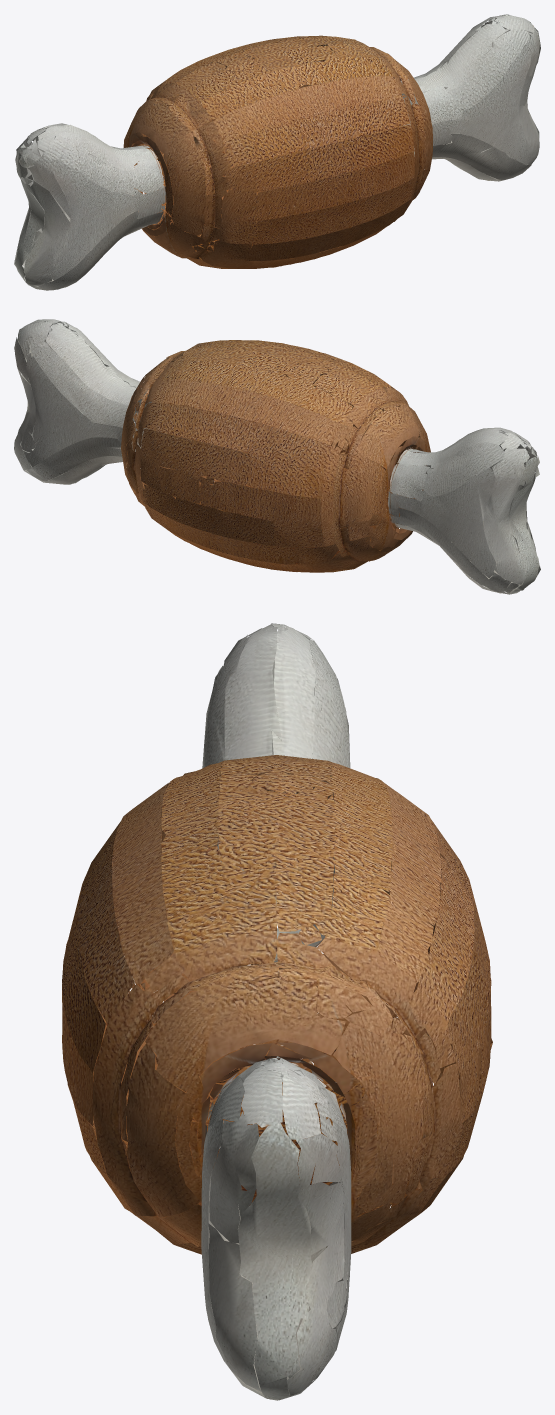
File: P_PlushMeat_h8.fbx
The picture shows the model from 3 angles, top to bottom: view 1: azimuth 30°, elevation 25°; view 2: azimuth 150°, elevation 25°; view 3: azimuth 270°, elevation 25°; orthographic projection. The views are drawn at different scales.
Parts seen in each view (by area): view 1: surface_7; view 2: surface_7; view 3: surface_7.
Boxes of the visible parts, x1=… form: surface_7: x1=14, y1=14, x2=540, y2=290; surface_7: x1=14, y1=319, x2=540, y2=594; surface_7: x1=62, y1=623, x2=492, y2=1400.
Size of the model in its own units: 2.71 by 1 by 0.976.
Materials: 1 (1 with a texture image).
